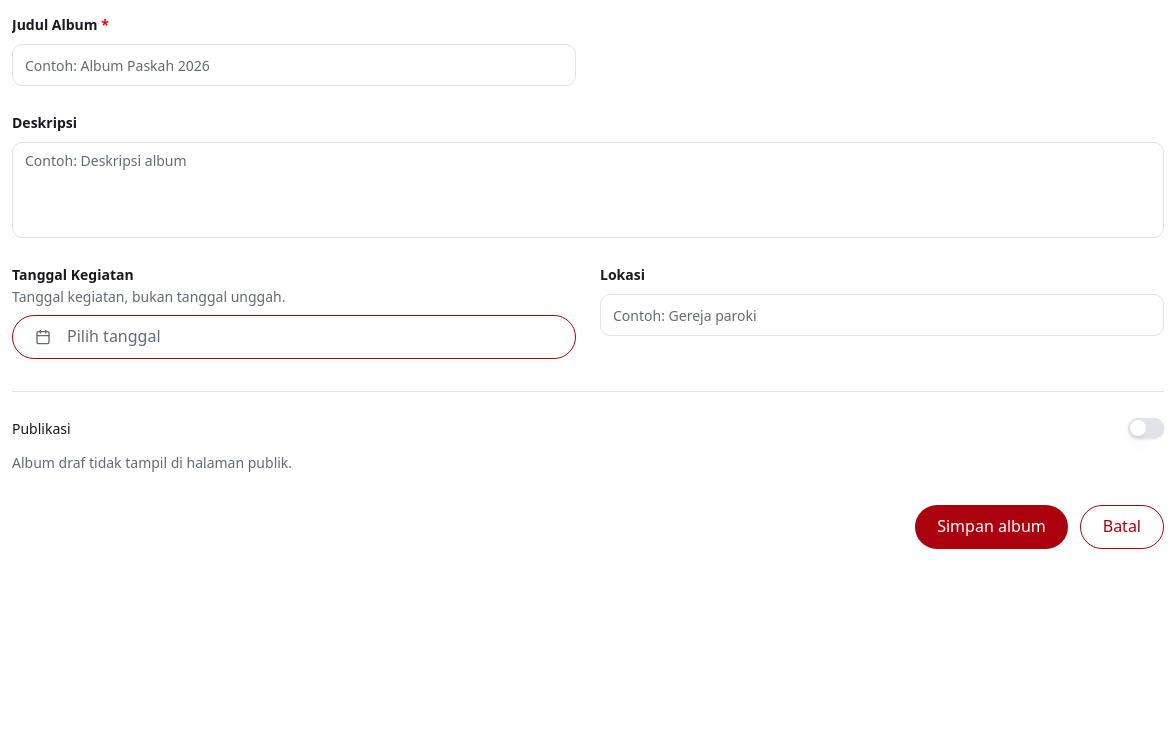
Test: GalleryForm › shows a server error next to the field that caused it
The image size is (1176, 732).
Click the button "Simpan album".
click(991, 527)  # box [915,505,1068,549]
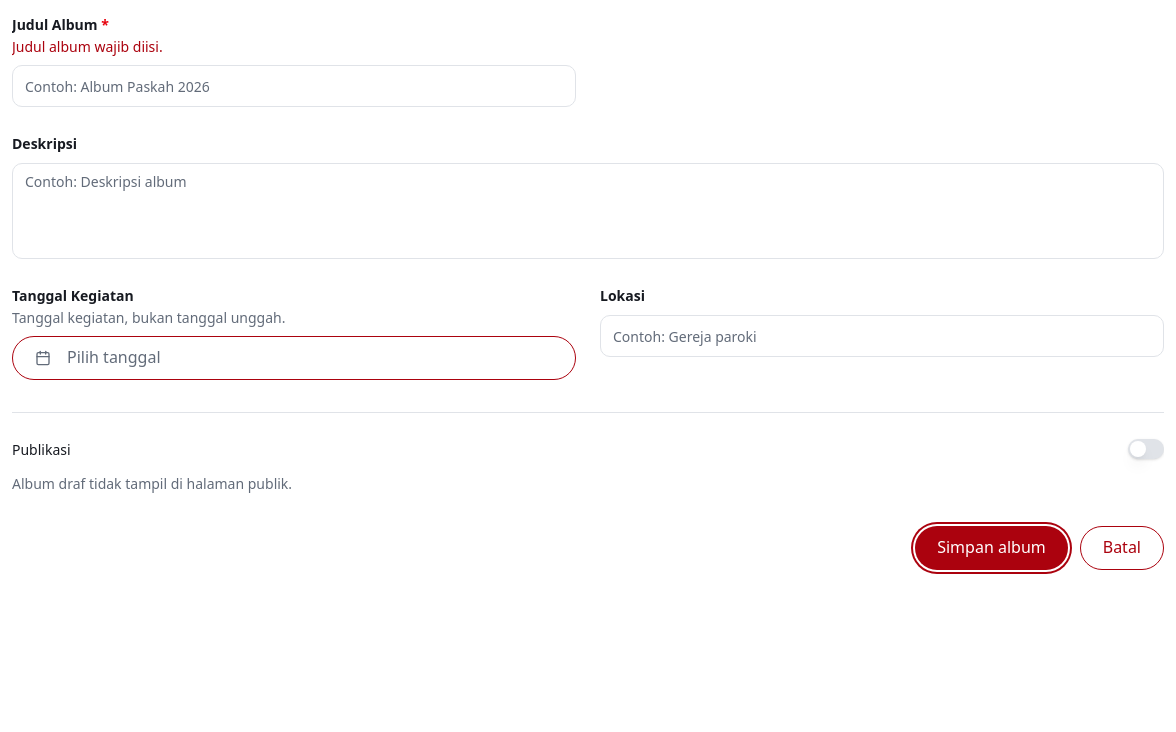
Now the text "Judul album wajib diisi." is shown, box [12,37,163,56]
